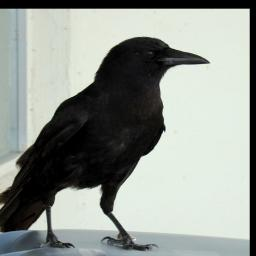Crow: (0, 36, 213, 254)
